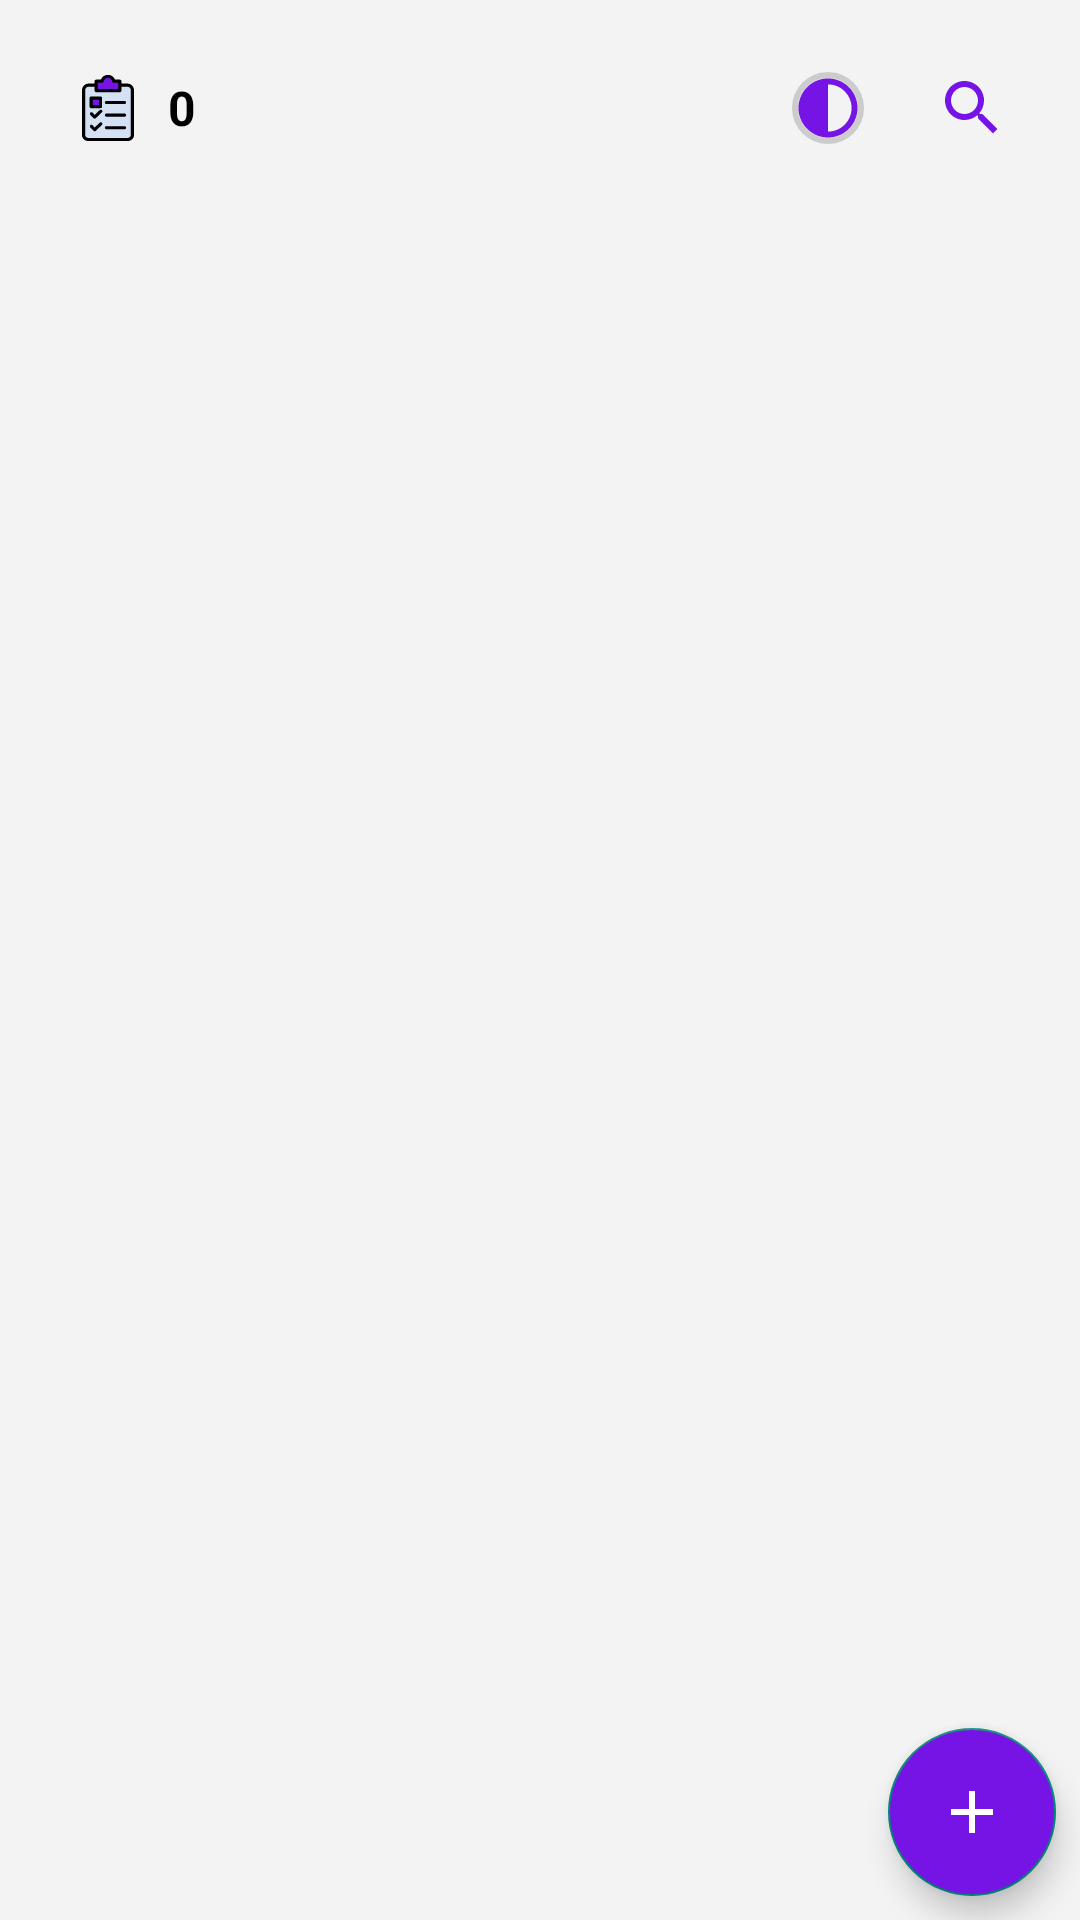

Icon click points for this 1080px×1920px phone screenshot, format point (x, y):
add: point (972, 1812)
search: point (971, 107)
